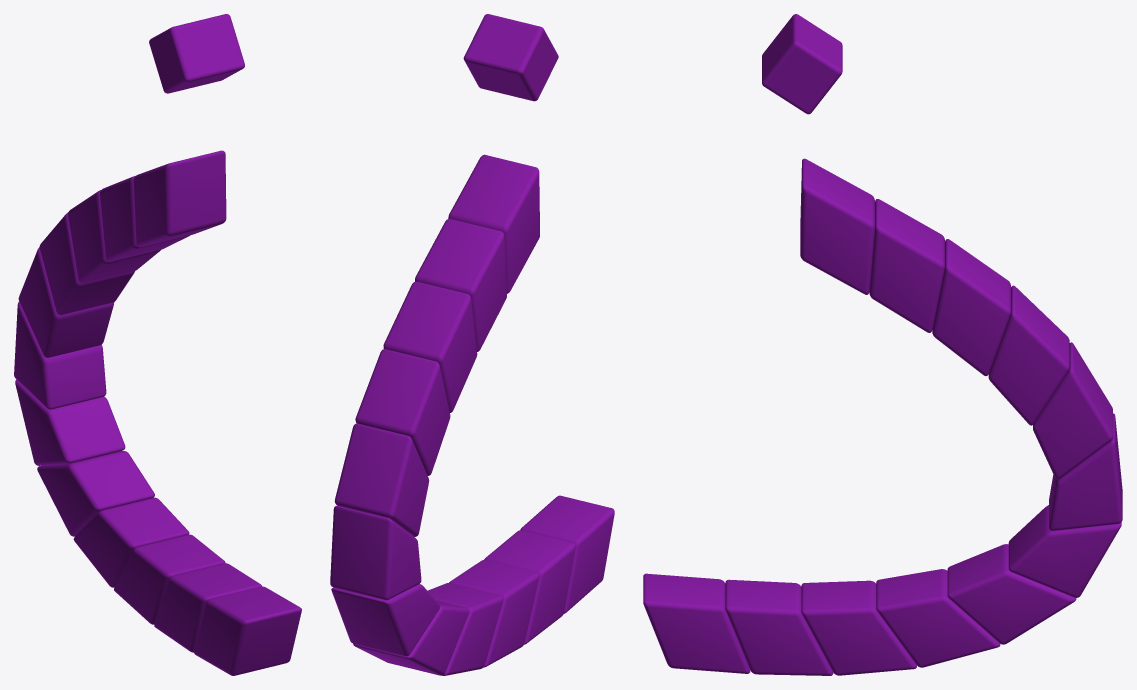
Rendered from dzal.fbx.
The picture shows the model from 3 angles, left to right: view 1: azimuth 30°, elevation 25°; view 2: azimuth 150°, elevation 25°; view 3: azimuth 270°, elevation 25°; orthographic projection. The views are drawn at different scales.
Visible parts, largest first — view 1: Cube, Cube.001; view 2: Cube, Cube.001; view 3: Cube, Cube.001.
Boxes of the visible parts, x1=… form: Cube: x1=14, y1=150, x2=301, y2=675; Cube.001: x1=149, y1=14, x2=244, y2=93; Cube: x1=330, y1=154, x2=614, y2=675; Cube.001: x1=463, y1=14, x2=558, y2=101; Cube: x1=643, y1=158, x2=1122, y2=675; Cube.001: x1=762, y1=14, x2=842, y2=114.
Bounding box in the file's own units: 60 × 582 × 398.
